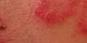plaque psoriasis: (33, 0, 78, 25), (77, 0, 87, 35), (0, 15, 6, 30)
